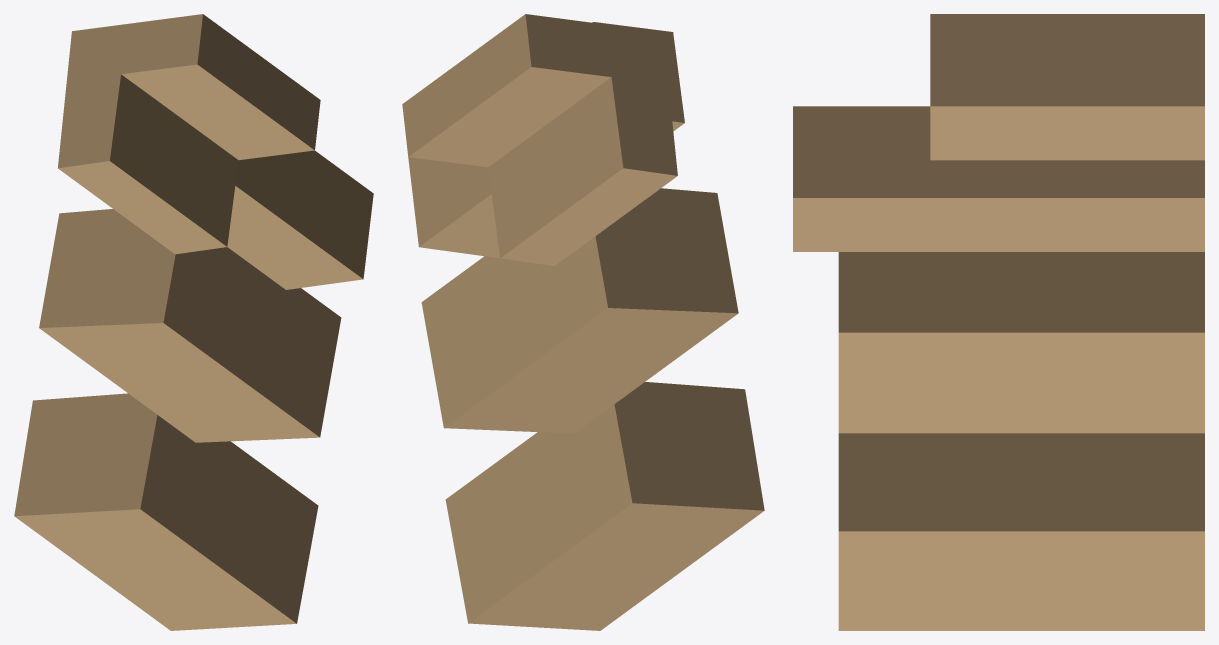
The picture shows the model from 3 angles, left to right: view 1: azimuth 30°, elevation 25°; view 2: azimuth 150°, elevation 25°; view 3: azimuth 270°, elevation 25°; orthographic projection. The views are drawn at different scales.
Parts seen in each view (by area): view 1: 0_0_3_2_0_0_1_0; view 2: 0_0_3_2_0_0_1_0; view 3: 0_0_3_2_0_0_1_0.
Boxes of the visible parts, bbox=[...] form: 0_0_3_2_0_0_1_0: bbox=[14, 14, 373, 630]; 0_0_3_2_0_0_1_0: bbox=[402, 14, 764, 630]; 0_0_3_2_0_0_1_0: bbox=[793, 14, 1204, 630].
Bounding box in the file's own units: 16.7 × 41.8 × 27.
